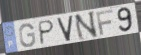9: (117, 7, 134, 34)
F: (95, 9, 114, 36)
G: (18, 22, 37, 48)
N: (73, 10, 99, 42)
P: (38, 19, 56, 46)
V: (56, 14, 74, 43)
